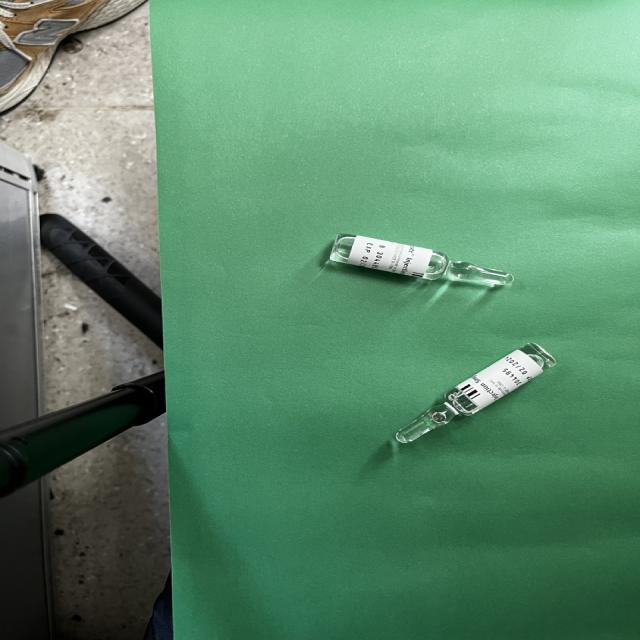Ampoules: (395, 343, 555, 444), (329, 234, 513, 287)
